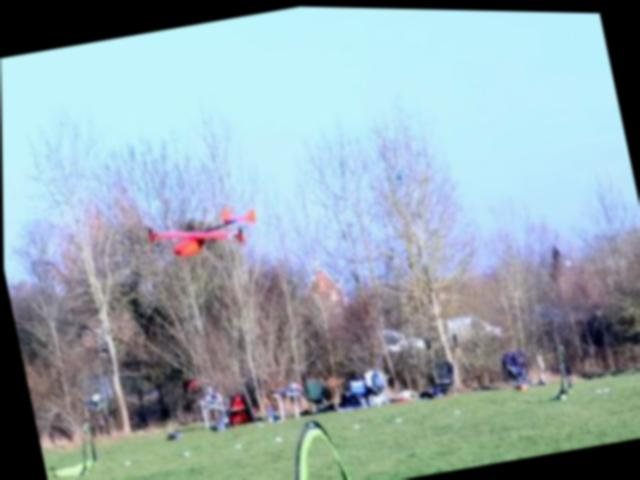uav: (131, 189, 270, 276)
